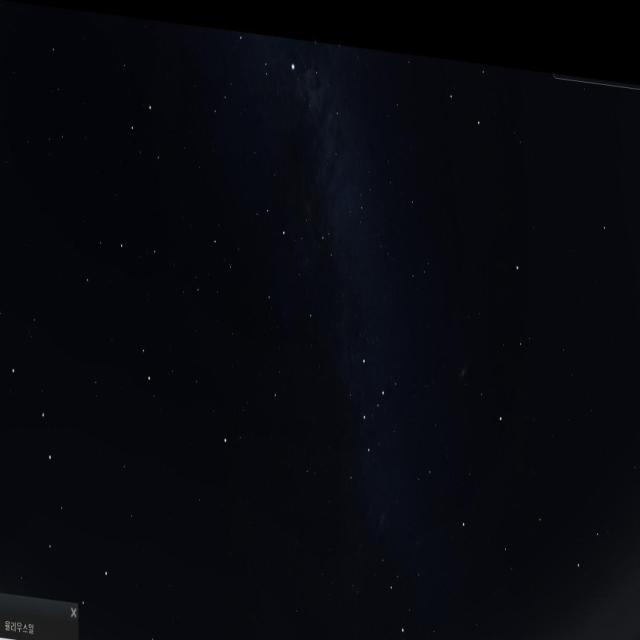cassiopeia: (336, 322, 394, 468)
ursa_major: (6, 345, 120, 610)
